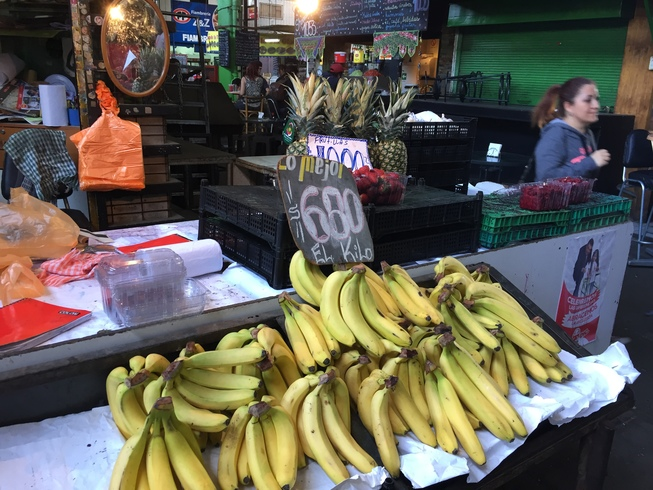precio: (273, 152, 382, 263), (308, 129, 378, 178)
